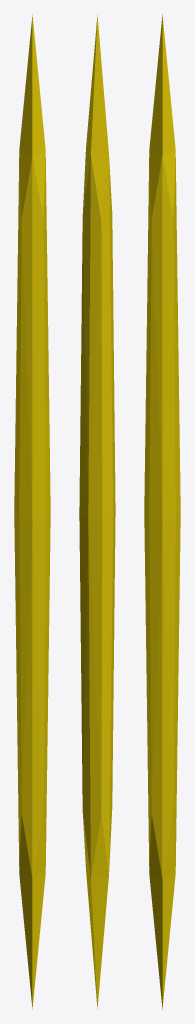
Rendered from thunder.obj.
The picture shows the model from 3 angles, left to right: view 1: azimuth 90°, elevation 25°; view 2: azimuth 150°, elevation 25°; view 3: azimuth 270°, elevation 25°; orthographic projection.
Visible parts, largest first — view 1: Cube; view 2: Cube; view 3: Cube.
Part boxes in pixels (x1,y1,x2,y2): Cube: (14,14,50,1009); Cube: (79,14,115,1009); Cube: (144,14,180,1009).
Bounding box in the file's own units: 1.68 × 50.62 × 1.68.
1 material, 1 textured.
